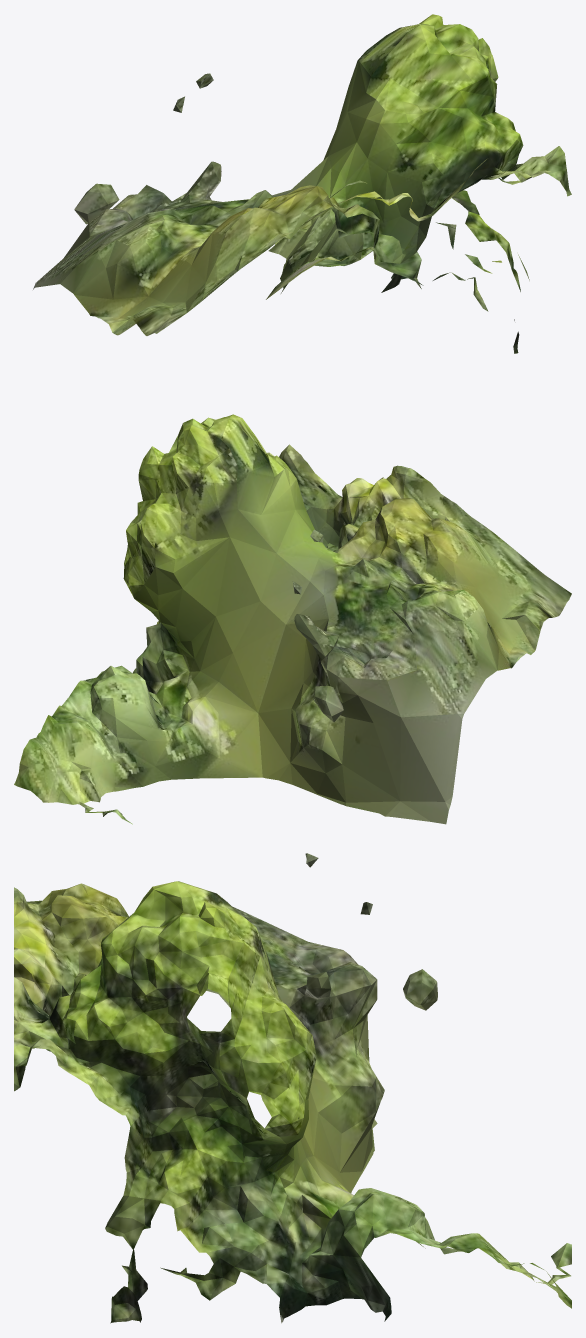
3 views of the same model, one above another, from view 1: azimuth 30°, elevation 25°; view 2: azimuth 150°, elevation 25°; view 3: azimuth 270°, elevation 25° (orthographic). The views are drawn at different scales.
Size of the model in its own units: 26.11 by 20.4 by 26.11.
Materials: 4 (4 with a texture image).
